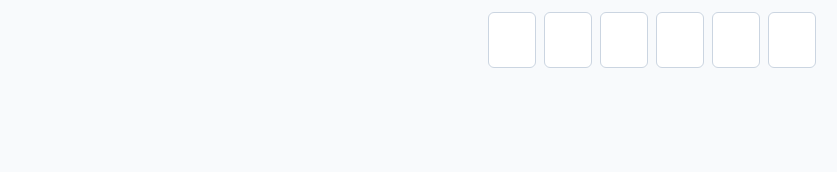
Scenario: OtpInput › fills all six from a six-digit paste into any box
Click the field named "Digit 3" at (624, 40), box 600,12 -> 648,68
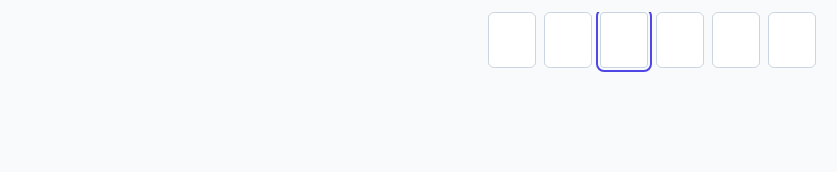
Type keys "123456"
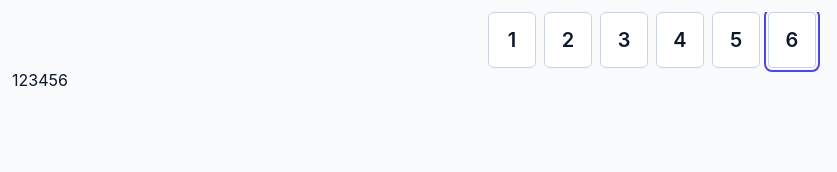
Now the text with test id "value" reads "123456", box 12,70 -> 68,90
